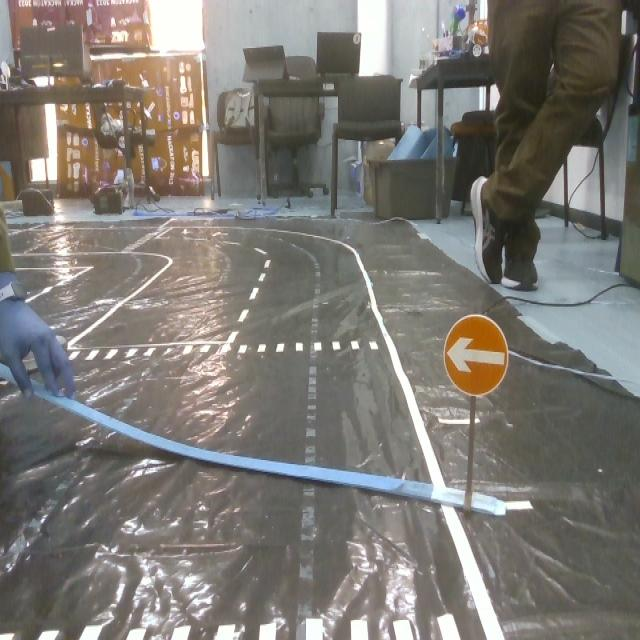forward: (441, 312, 512, 399)
